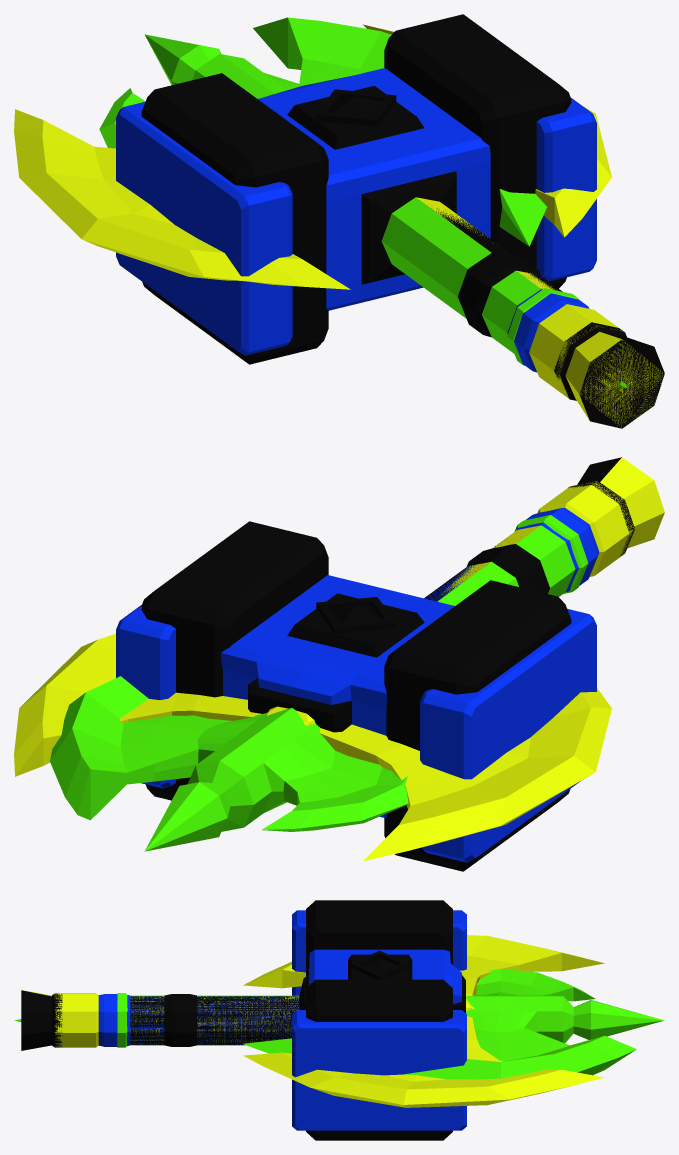
Rendered from battleaxe1.glb.
3 renders of one model, top to bottom at view 1: azimuth 30°, elevation 25°; view 2: azimuth 150°, elevation 25°; view 3: azimuth 270°, elevation 25°, orthographic. The views are drawn at different scales.
Visible parts, largest first — view 1: battle hammer 1, battle hammer 2, battle axe 3, battle axe 2; view 2: battle hammer 1, battle axe 2, battle hammer 2, battle axe 3; view 3: battle hammer 1, battle hammer 2, battle axe 3, battle axe 2.
Part boxes in pixels (box(x1,y1,x2,y2)): battle hammer 1: box(141, 14, 664, 428); battle hammer 2: box(116, 68, 596, 372); battle axe 3: box(14, 24, 664, 427); battle axe 2: box(99, 17, 627, 387); battle hammer 1: box(141, 457, 634, 871); battle axe 2: box(50, 515, 588, 851); battle hammer 2: box(116, 507, 599, 862); battle axe 3: box(14, 457, 664, 861); battle hammer 1: box(21, 900, 465, 1140); battle hammer 2: box(98, 910, 466, 1130); battle axe 3: box(21, 935, 604, 1107); battle axe 2: box(14, 969, 664, 1079).
Size of the model in its own units: 9.04 by 3.45 by 14.72.
5 materials, 5 textured.
